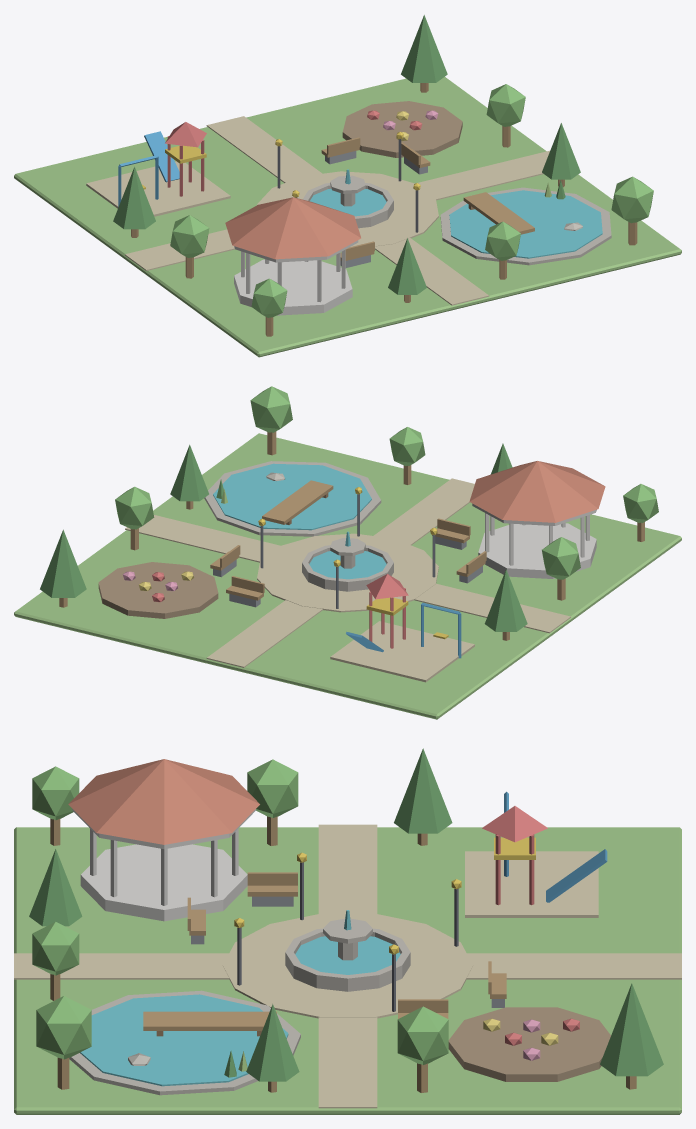
The model's file is parques__parque.glb.
The picture shows the model from 3 angles, top to bottom: view 1: azimuth 30°, elevation 25°; view 2: azimuth 150°, elevation 25°; view 3: azimuth 270°, elevation 25°; orthographic projection. The views are drawn at different scales.
Parts seen in each view (by area): view 1: parques__parque; view 2: parques__parque; view 3: parques__parque.
Part boxes in pixels (x1,y1,x2,y2): parques__parque: [14, 15, 681, 357]; parques__parque: [14, 386, 681, 719]; parques__parque: [14, 748, 681, 1114].
Size of the model in its own units: 8 by 1.78 by 8.
